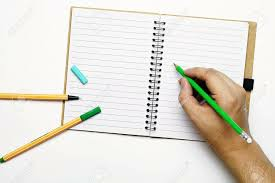pen: (172, 61, 250, 143), (1, 108, 99, 165), (1, 91, 84, 101)
